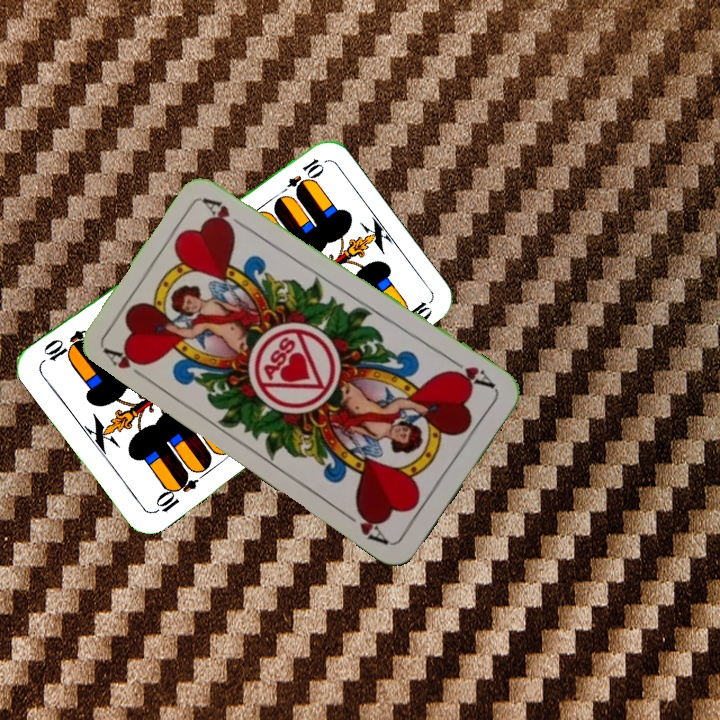E10: (149, 469, 200, 517), (274, 154, 326, 200)
HA: (99, 342, 152, 384), (444, 354, 499, 392)
